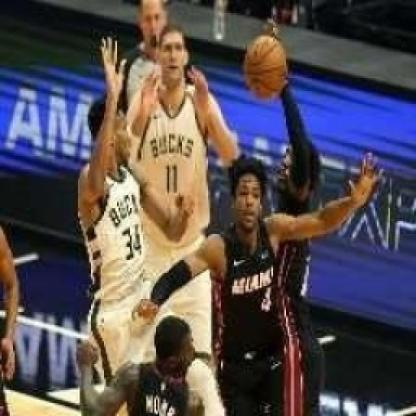basketball: (242, 31, 290, 102)
